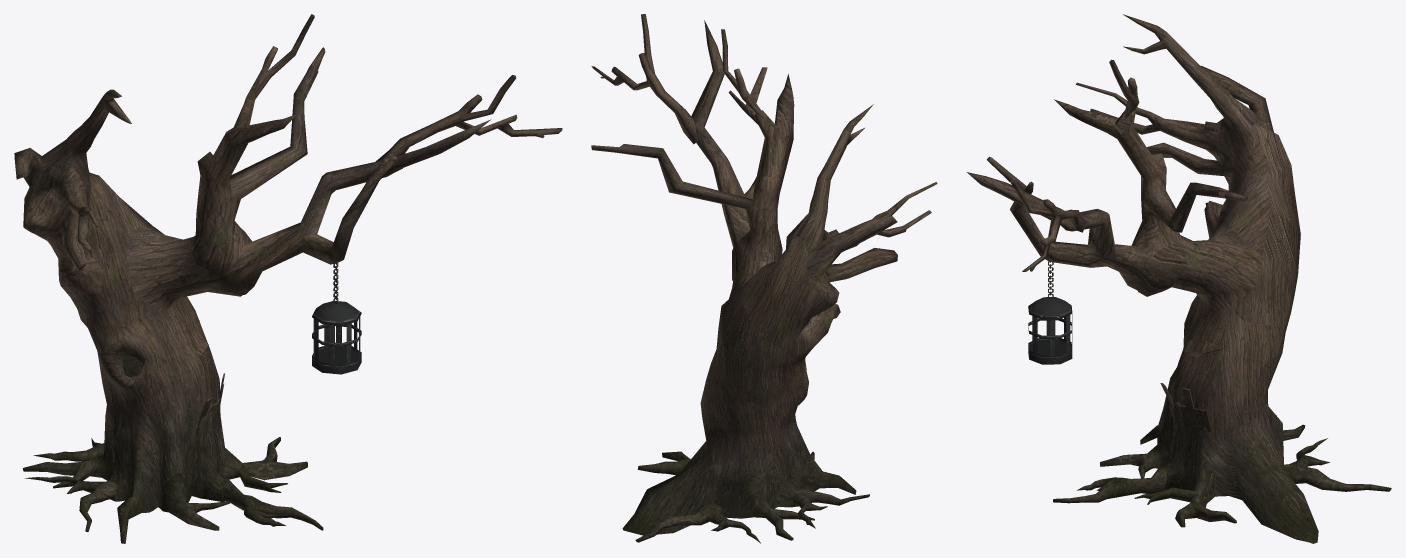
The model's file is zshh_kushu_01.FBX.
The picture shows the model from 3 angles, left to right: view 1: azimuth 30°, elevation 25°; view 2: azimuth 150°, elevation 25°; view 3: azimuth 270°, elevation 25°; orthographic projection. The views are drawn at different scales.
Parts seen in each view (by area): view 1: zshh_kushu_01, zshh_kushu_02; view 2: zshh_kushu_01; view 3: zshh_kushu_01, zshh_kushu_02.
Boxes of the visible parts, bbox=[...] form: zshh_kushu_01: bbox=[14, 14, 562, 543]; zshh_kushu_02: bbox=[312, 262, 361, 374]; zshh_kushu_01: bbox=[591, 14, 937, 543]; zshh_kushu_01: bbox=[966, 14, 1391, 543]; zshh_kushu_02: bbox=[1028, 261, 1072, 364].
Bounding box in the file's own units: 1335 × 1166 × 1448.
